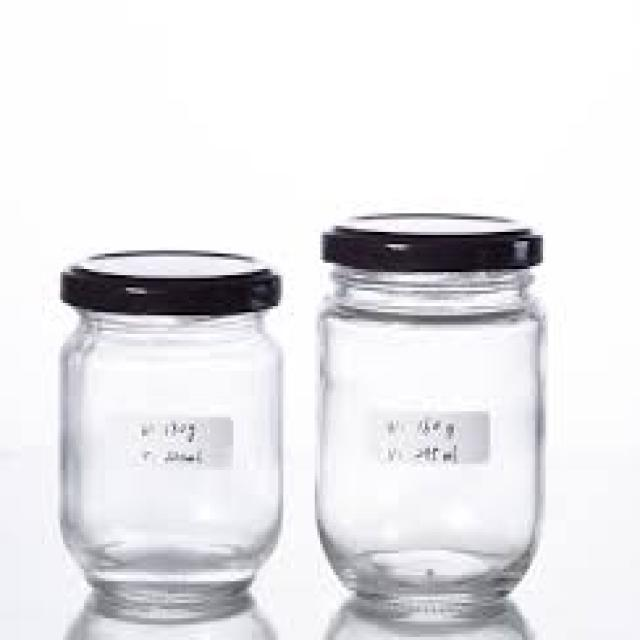glass: (317, 266, 543, 612), (58, 306, 278, 600)
metal: (58, 248, 278, 310), (318, 210, 541, 263)
